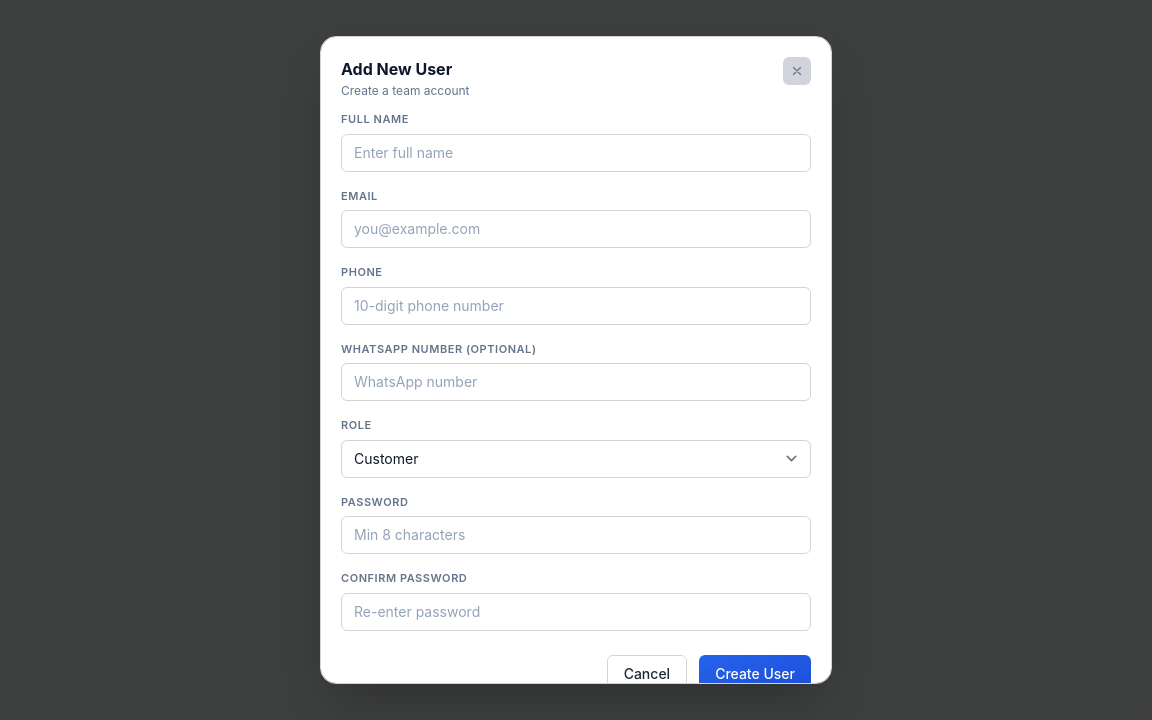
Test: CreateUserModal › shows validation errors when submitting empty form
Click the button "Create User" at (755, 674), box 699,654 -> 811,692
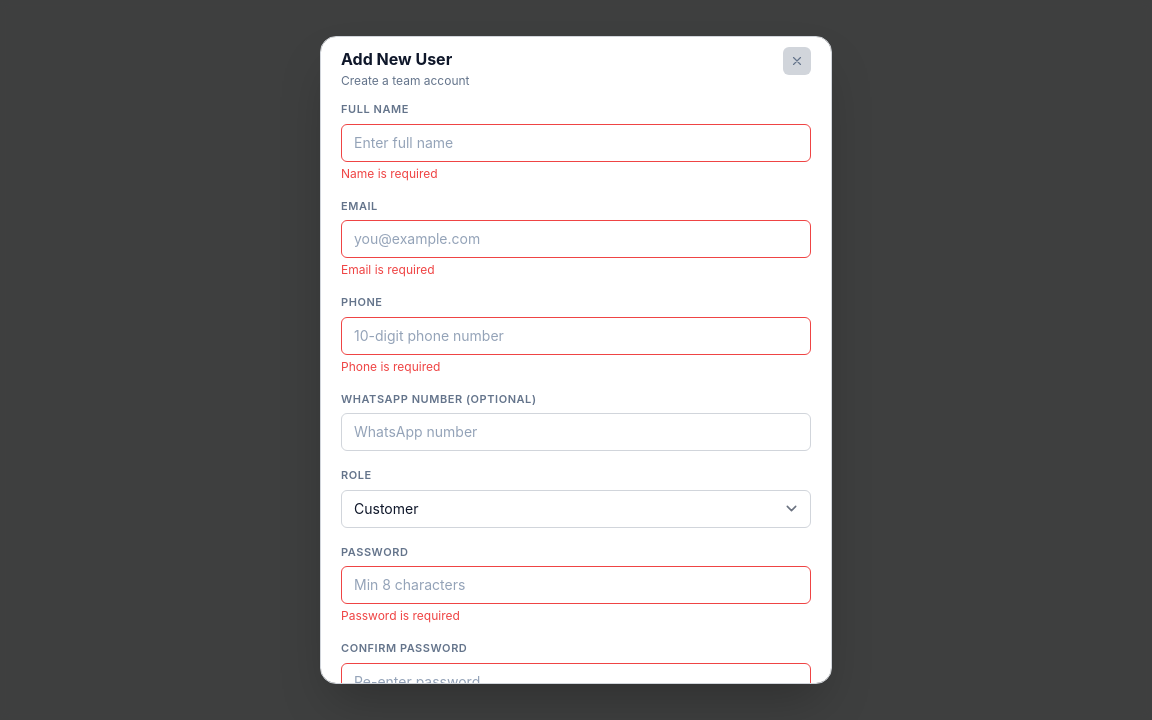
Check: the text "Name is required" is shown, box 341,166 -> 438,180
